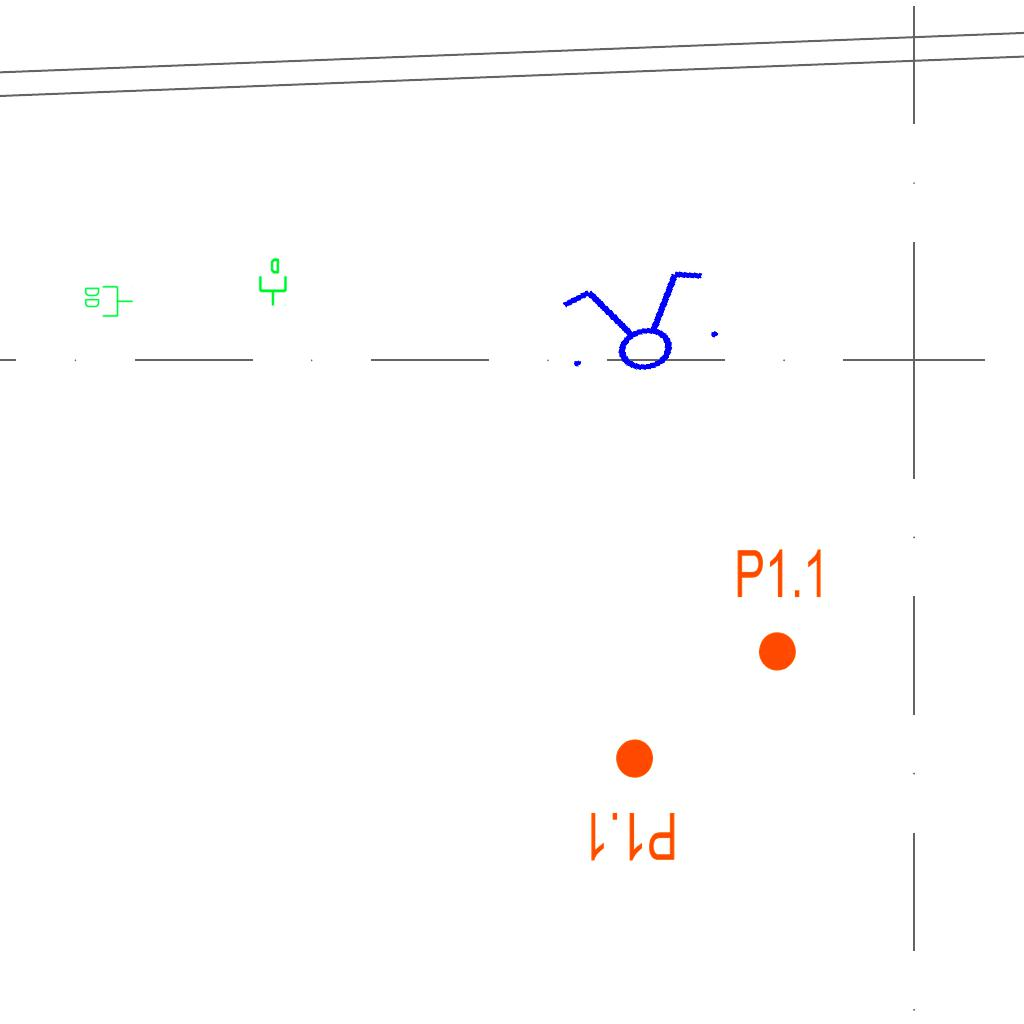Datenanschluss_einfach: (255, 257, 289, 307)
Datenanschluss_zweifach: (83, 284, 134, 318)
Downlight_LED_Einbauleuchten_Flur: (734, 546, 827, 674), (585, 736, 678, 864)
Serienschalter: (546, 259, 732, 389)
